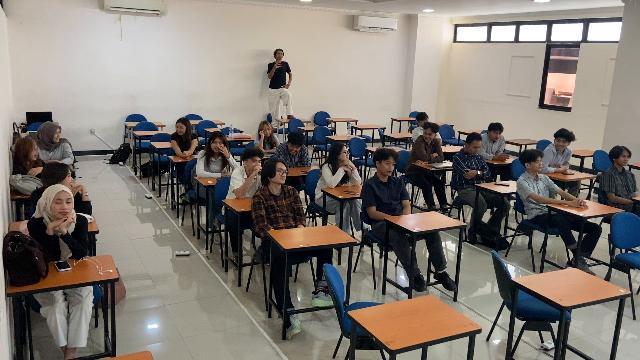senang: (54, 195, 71, 218), (489, 126, 506, 145), (27, 144, 40, 161), (274, 165, 286, 183), (555, 136, 568, 151), (383, 159, 394, 176), (63, 172, 73, 188), (288, 142, 300, 155), (211, 138, 222, 152), (52, 128, 62, 143), (423, 129, 434, 142), (620, 153, 630, 167), (339, 147, 350, 159), (176, 123, 186, 136), (534, 158, 543, 172), (472, 141, 480, 155)
